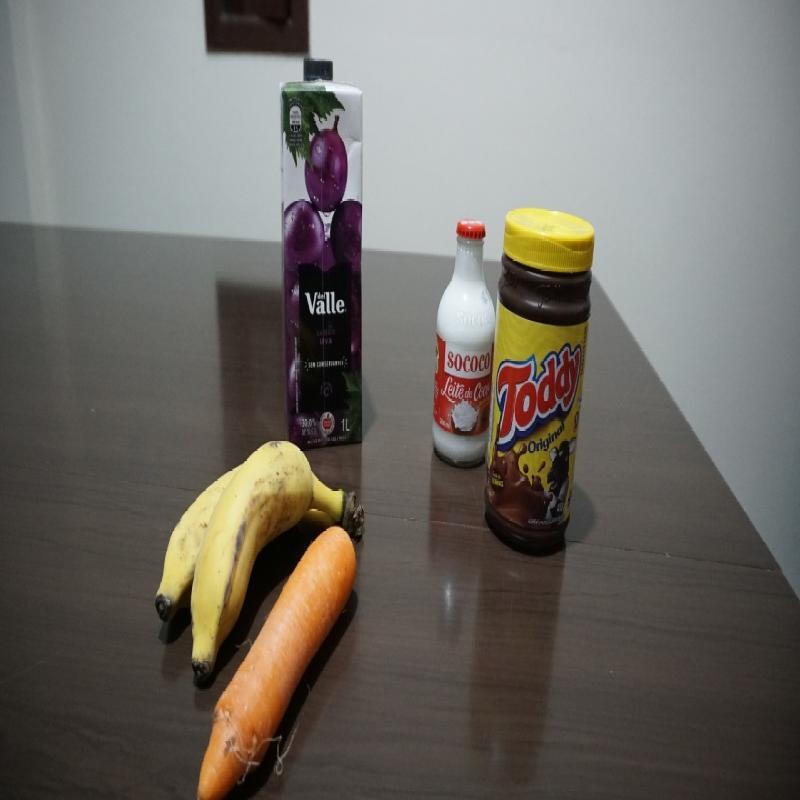Banana: (158, 424, 370, 525)
Carrot: (259, 530, 359, 738)
Chocolate Powder: (492, 200, 596, 552)
Coconut Milk: (431, 207, 490, 462)
